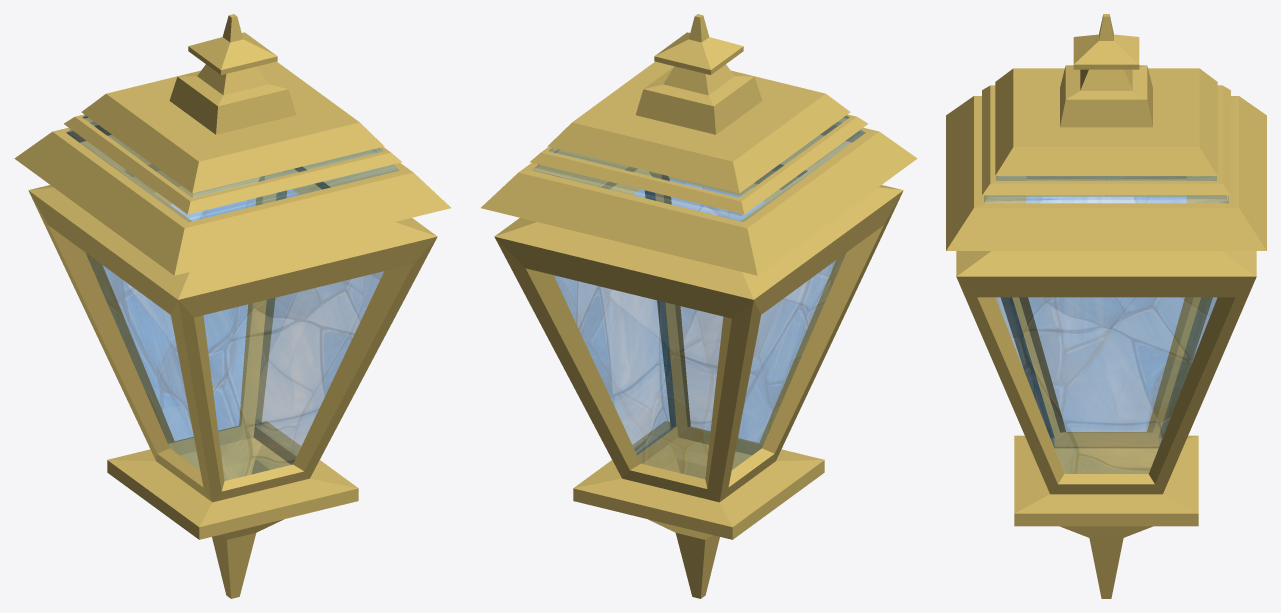
File: lantern.glb
The picture shows the model from 3 angles, left to right: view 1: azimuth 30°, elevation 25°; view 2: azimuth 150°, elevation 25°; view 3: azimuth 270°, elevation 25°; orthographic projection.
Visible parts, largest first — view 1: lanternHP; view 2: lanternHP; view 3: lanternHP.
Part boxes in pixels (x1,y1,x2,y2): lanternHP: [14, 14, 450, 598]; lanternHP: [481, 14, 917, 598]; lanternHP: [946, 14, 1266, 598].
Bounding box in the file's own units: 1 × 2 × 1.
2 materials, 2 textured.
